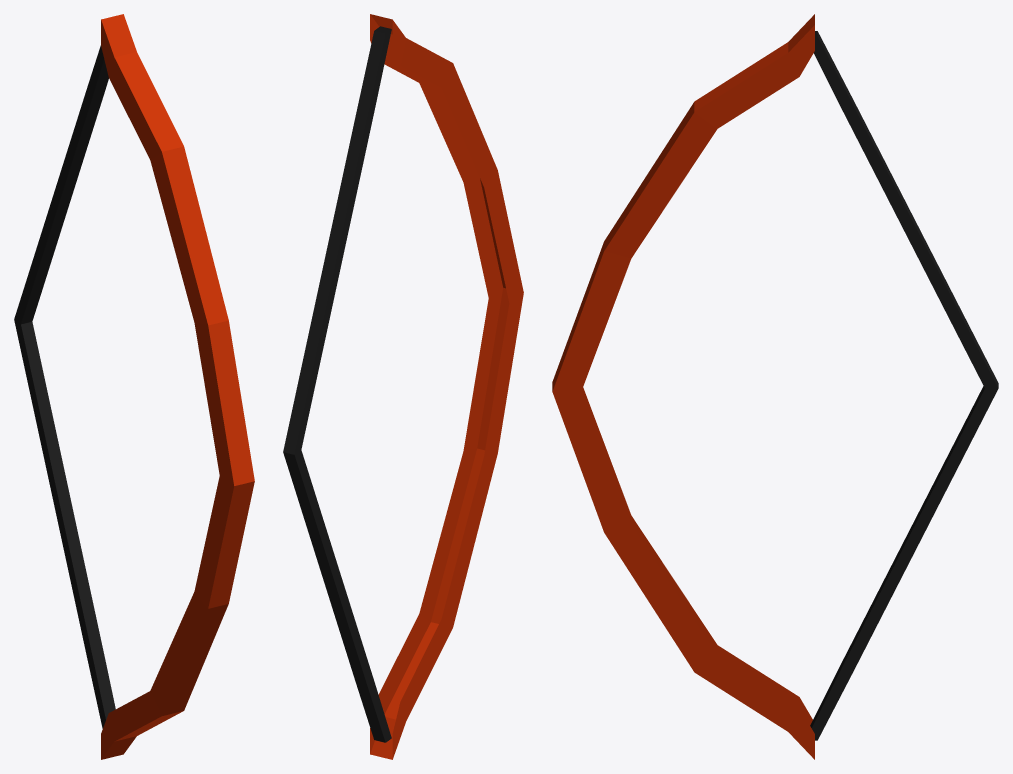
File: bow_pull.obj
3 renders of one model, left to right at view 1: azimuth 30°, elevation 25°; view 2: azimuth 150°, elevation 25°; view 3: azimuth 270°, elevation 25°, orthographic.
Parts seen in each view (by area): view 1: bow_mk2_pull; view 2: bow_mk2_pull; view 3: bow_mk2_pull.
Part boxes in pixels (<box>): bow_mk2_pull: <box>14,14,254,759</box>; bow_mk2_pull: <box>283,14,523,759</box>; bow_mk2_pull: <box>552,14,998,759</box>.
Size of the model in its own units: 0.0209 by 0.6556 by 0.3606.
